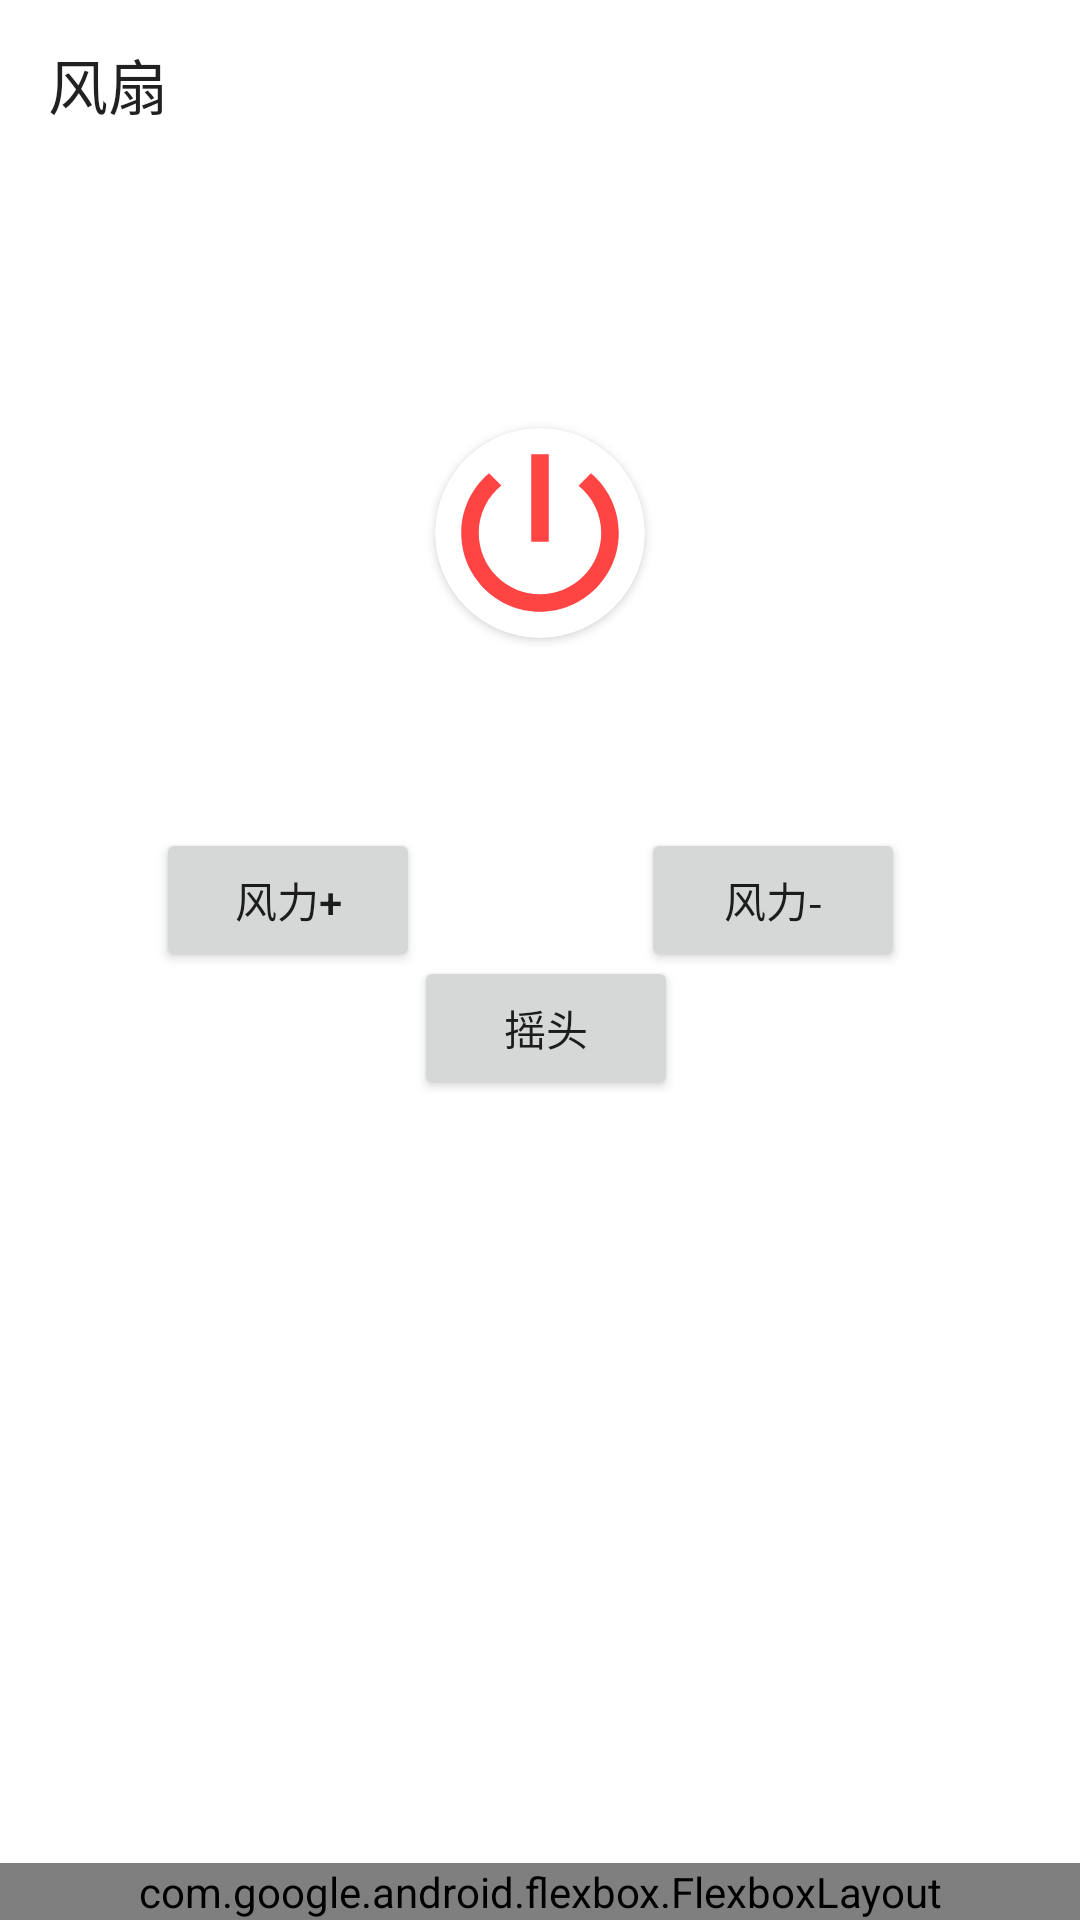

Point at icon controls on the screen. Image size 1080px x 1920px, points as (x=x, y=y).
power settings: (x=540, y=546)
